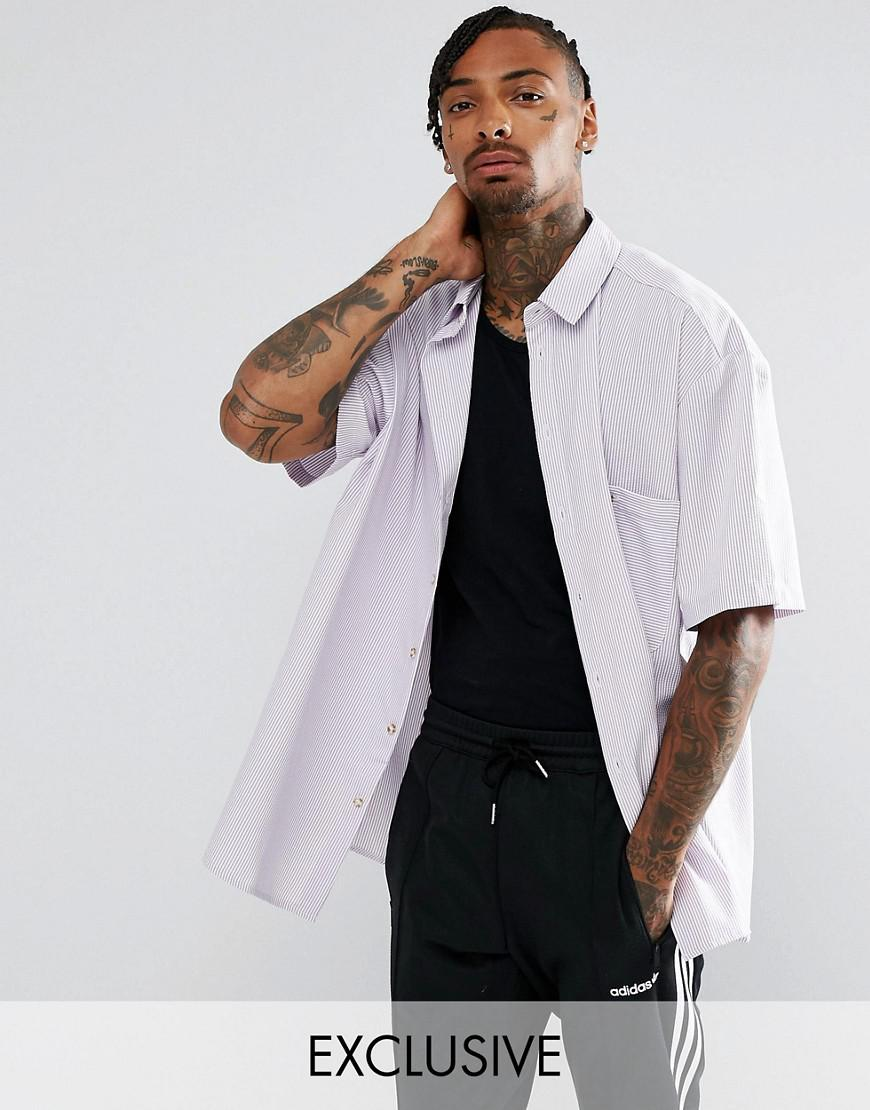teeshirt: (203, 203, 798, 962)
